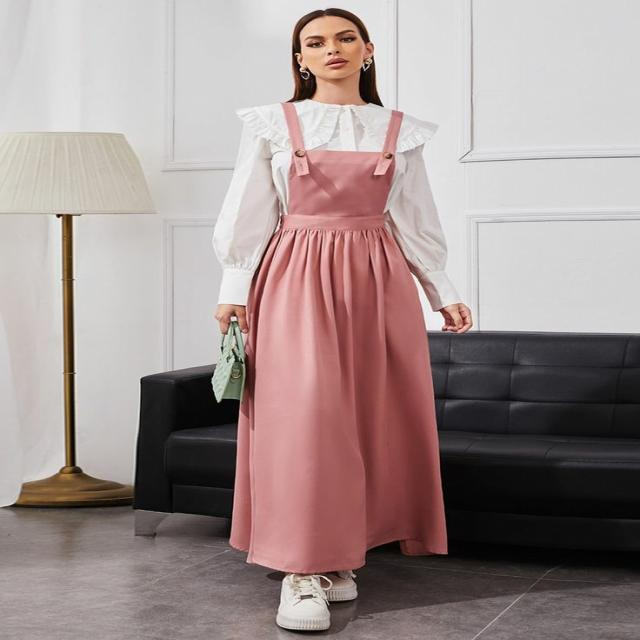female-dress: (221, 104, 464, 578)
